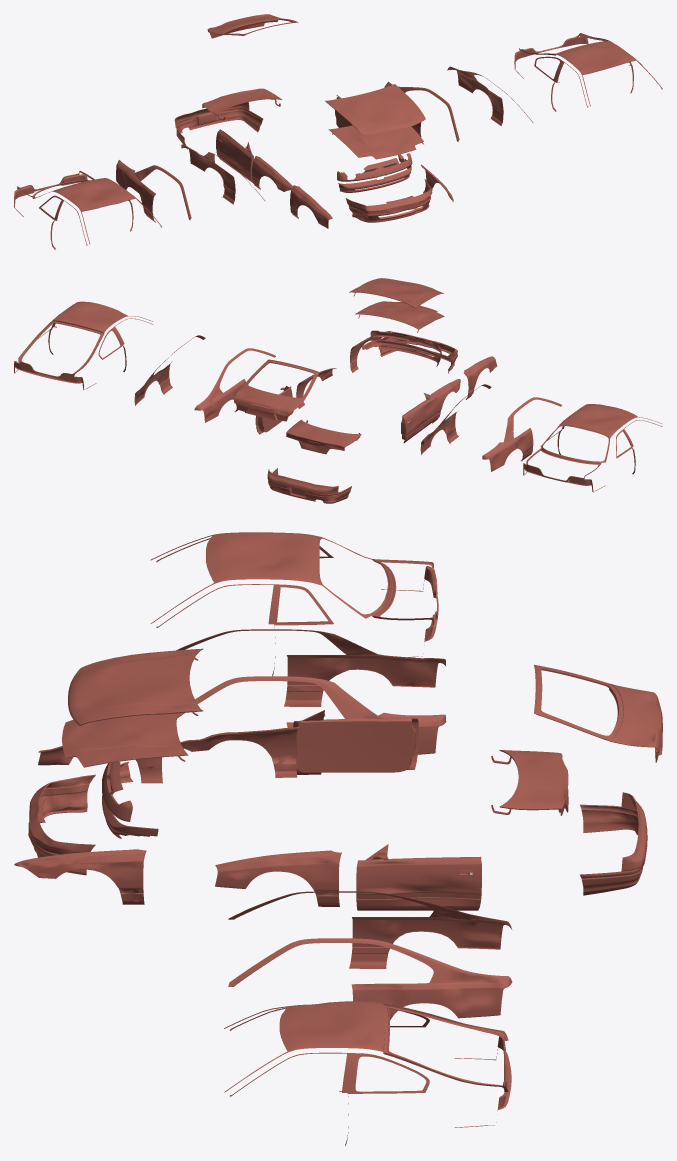
File: bx_beater.dae
3 views of the same model, one above another, from view 1: azimuth 30°, elevation 25°; view 2: azimuth 150°, elevation 25°; view 3: azimuth 270°, elevation 25° (orthographic). The views are drawn at different scales.
Parts seen in each view (by area): view 1: bx_beater_hood_fixed, bx_beater_body_coupe, bx_beater_body_hatch, bx_beater_quarterpanels_coupe, bx_beater_hood_popup, bx_beater_bumper_F_popup, bx_beater_bumper_F_fixed, bx_beater_bumper_R, bx_beater_quarterpanels_hatch, bx_beater_door_R, bx_beater_trunk_coupe, bx_beater_tailgate_hatch (+2 smaller); view 2: bx_beater_body_coupe, bx_beater_body_hatch, bx_beater_tailgate_hatch, bx_beater_quarterpanels_coupe, bx_beater_quarterpanels_hatch, bx_beater_hood_fixed, bx_beater_trunk_coupe, bx_beater_bumper_R, bx_beater_hood_popup, bx_beater_bumper_F_popup, bx_beater_door_R, bx_beater_bumper_F_fixed (+3 smaller); view 3: bx_beater_quarterpanels_hatch, bx_beater_body_coupe, bx_beater_body_hatch, bx_beater_quarterpanels_coupe, bx_beater_hood_fixed, bx_beater_door_R, bx_beater_door_L, bx_beater_hood_popup, bx_beater_tailgate_hatch, bx_beater_fender_L_popup, bx_beater_bumper_R, bx_beater_fender_L_fixed (+5 smaller).
Boxes of the visible parts, x1,y1,x2,y2 form: bx_beater_hood_fixed: (325,84,425,135); bx_beater_body_coupe: (14,171,161,249); bx_beater_body_hatch: (514,33,662,111); bx_beater_quarterpanels_coupe: (116,144,265,222); bx_beater_hood_popup: (328,125,423,159); bx_beater_bumper_F_popup: (337,153,412,192); bx_beater_bumper_F_fixed: (345,179,432,222); bx_beater_bumper_R: (174,102,263,149); bx_beater_quarterpanels_hatch: (384,66,533,144); bx_beater_door_R: (216,129,253,183); bx_beater_trunk_coupe: (202,88,282,120); bx_beater_tailgate_hatch: (207,14,298,38); bx_beater_body_coupe: (523,404,662,492); bx_beater_body_hatch: (14,301,153,389); bx_beater_tailgate_hatch: (233,359,319,421); bx_beater_quarterpanels_coupe: (420,384,561,471); bx_beater_quarterpanels_hatch: (134,335,275,422); bx_beater_hood_fixed: (349,278,443,310); bx_beater_trunk_coupe: (286,419,361,454); bx_beater_bumper_R: (267,468,351,503); bx_beater_hood_popup: (355,301,444,332); bx_beater_bumper_F_popup: (362,330,441,366); bx_beater_door_R: (401,393,438,442); bx_beater_bumper_F_fixed: (379,337,457,373); bx_beater_quarterpanels_hatch: (228,891,512,1020); bx_beater_body_coupe: (150,532,438,676); bx_beater_body_hatch: (224,1001,511,1145); bx_beater_quarterpanels_coupe: (176,629,446,774); bx_beater_hood_fixed: (68,648,203,726); bx_beater_door_R: (293,710,418,772); bx_beater_door_L: (356,844,481,910); bx_beater_hood_popup: (62,713,188,767); bx_beater_tailgate_hatch: (534,664,662,762); bx_beater_fender_L_popup: (215,850,341,906); bx_beater_bumper_R: (580,792,647,895); bx_beater_fender_L_fixed: (14,849,146,904).
Size of the model in its own units: 12.31 by 6.3 by 2.31.
